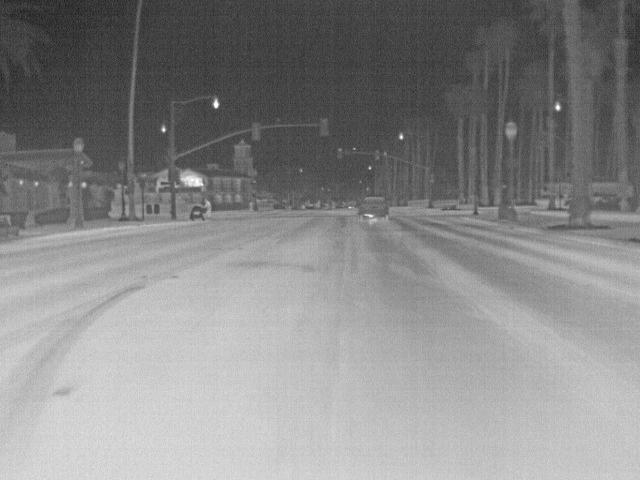car: (356, 195, 389, 221)
person: (201, 197, 213, 218)
